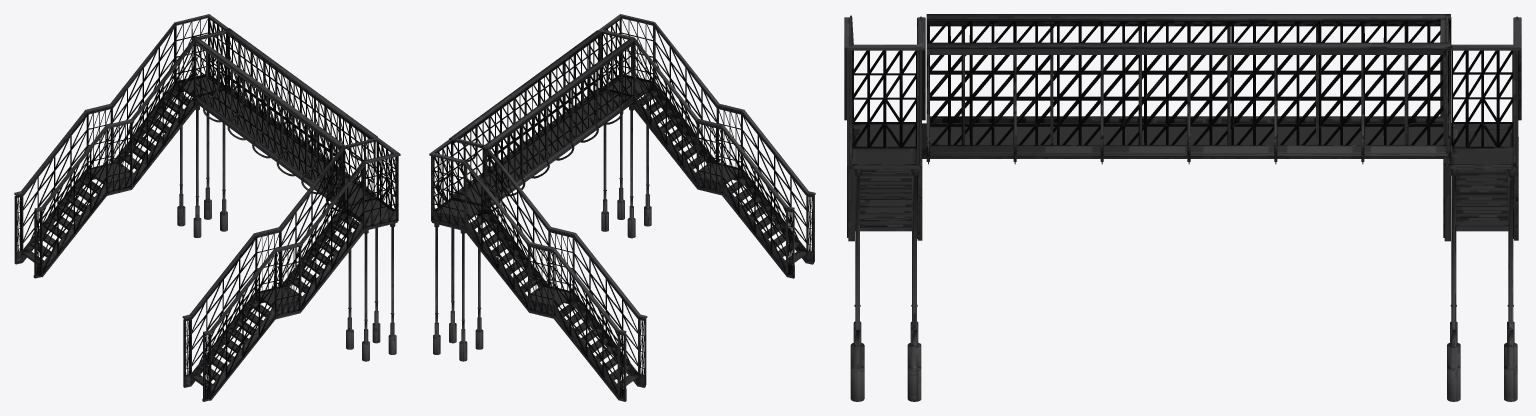
The picture shows the model from 3 angles, left to right: view 1: azimuth 30°, elevation 25°; view 2: azimuth 150°, elevation 25°; view 3: azimuth 270°, elevation 25°; orthographic projection. The views are drawn at different scales.
Visible parts, largest first — view 1: Cube; view 2: Cube; view 3: Cube.
Boxes of the visible parts, x1,y1,x2,y2 form: Cube: (14,14,400,401); Cube: (429,14,815,401); Cube: (844,14,1521,401).
Bounding box in the file's own units: 3.77 × 3.48 × 5.98.
1 material, 1 textured.
